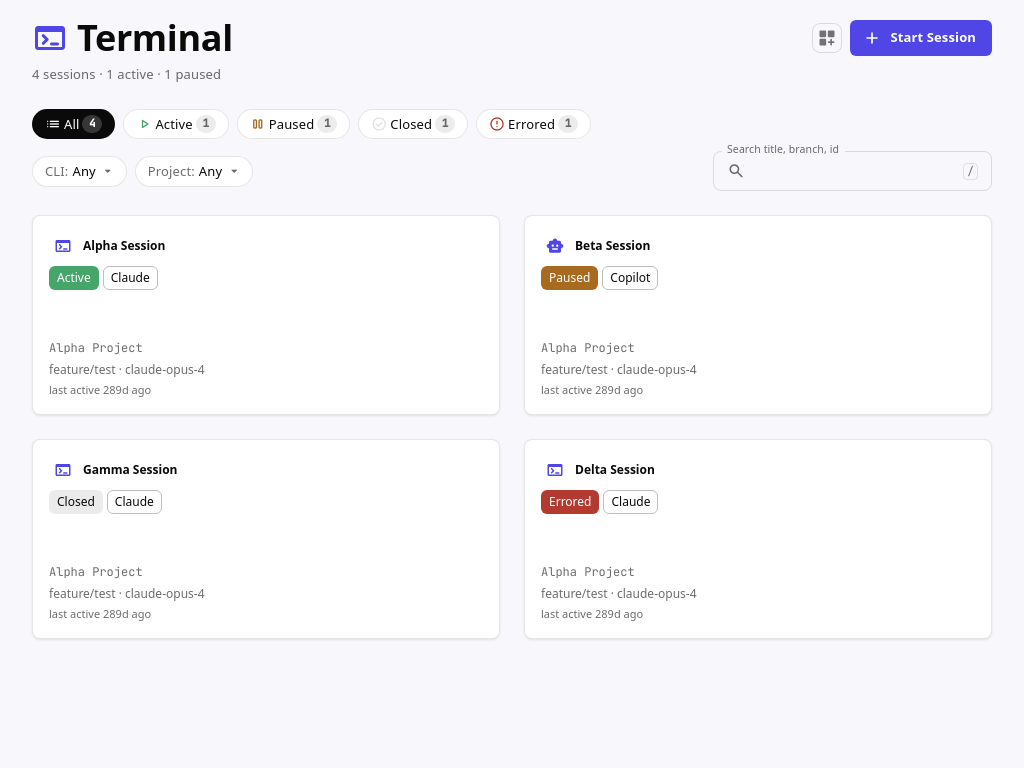
Test: Terminal — with sessions › filters sessions by status when status pill is clicked
The image size is (1024, 768).
Check: the heading "Alpha Session" is shown, box [83,237,165,254]
// Click "Active" filter
What coordinates should you click on to do the following:
click the text "Active"
I would click on:
 (174, 124)
Its box is [155,114,193,134].
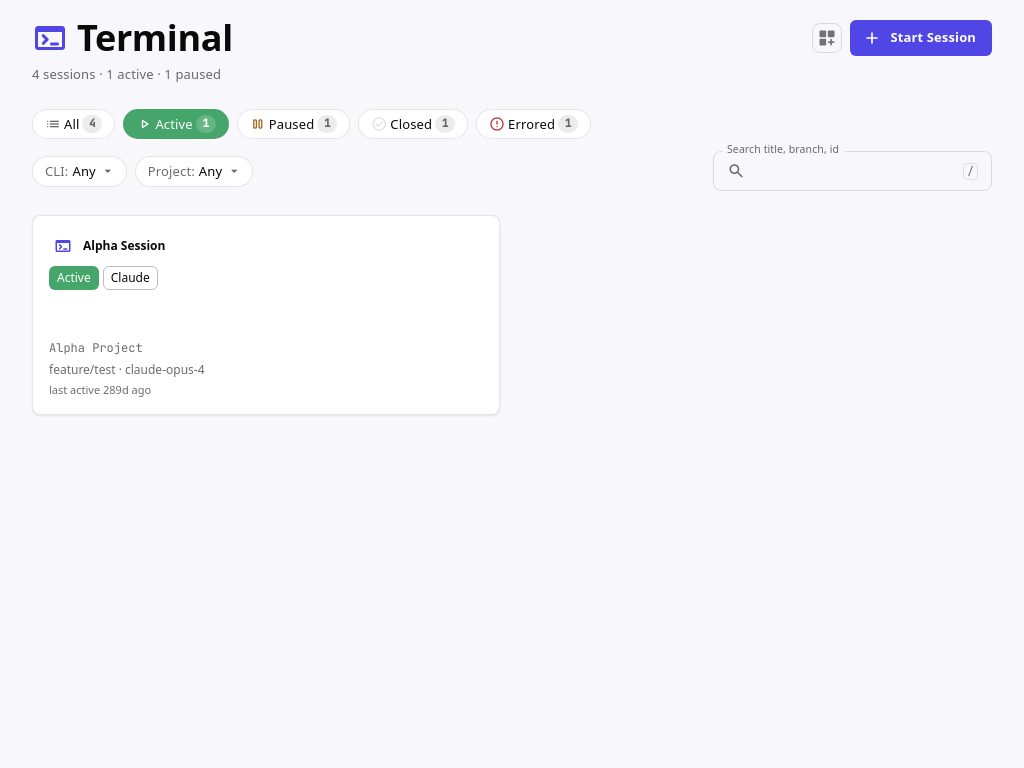
Check: the heading "Alpha Session" is shown, box [83,237,165,254]
Check: the button "Beta Session" is gone
